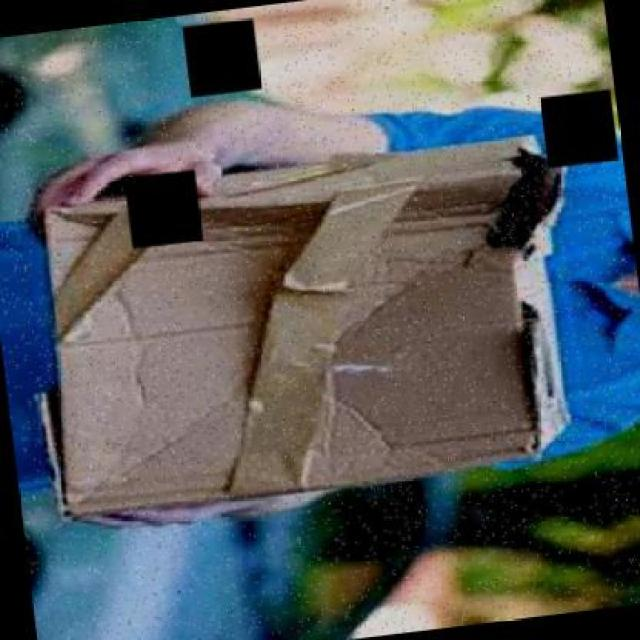box: (0, 114, 606, 538)
